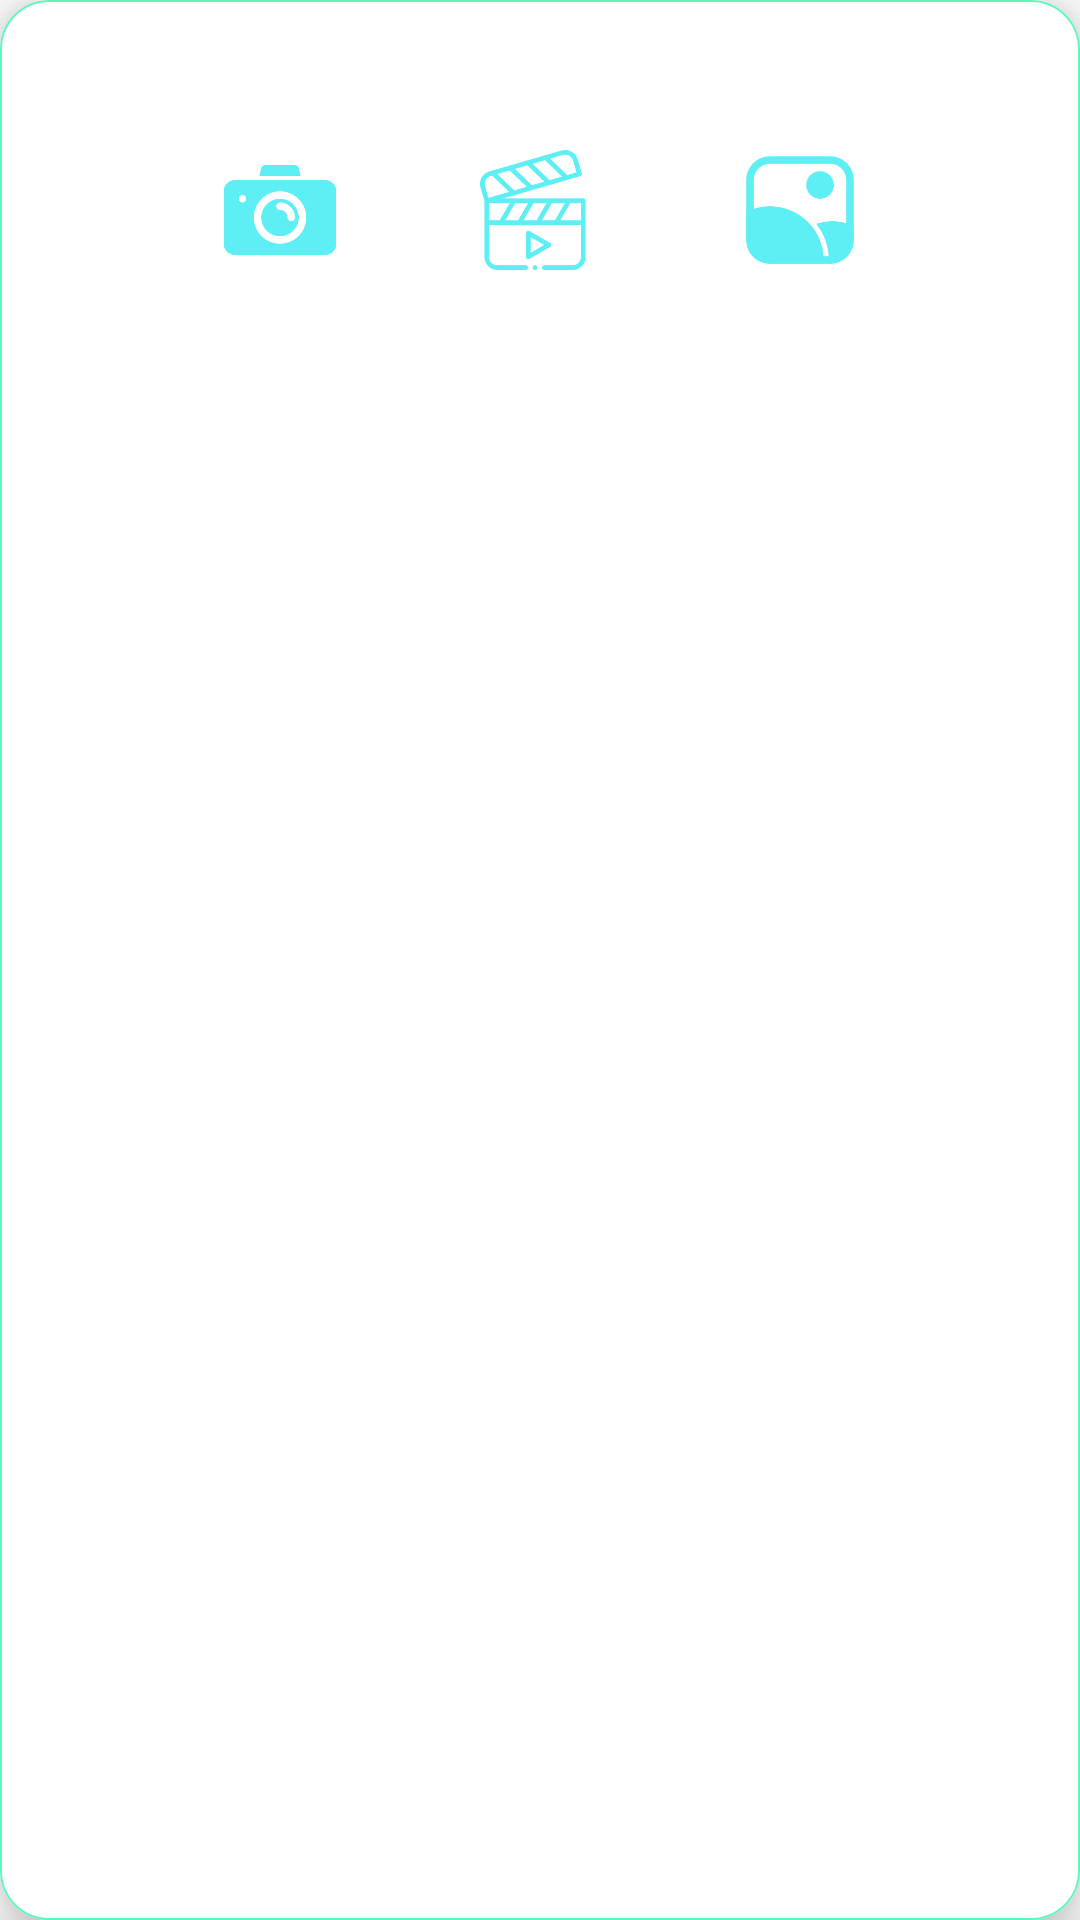

Icons on this 1080px×1920px Android screen, each with its box as (x1, y1, x2, y2):
camera: (224, 165, 336, 255)
gallery: (746, 156, 854, 264)
video: (480, 150, 586, 270)
